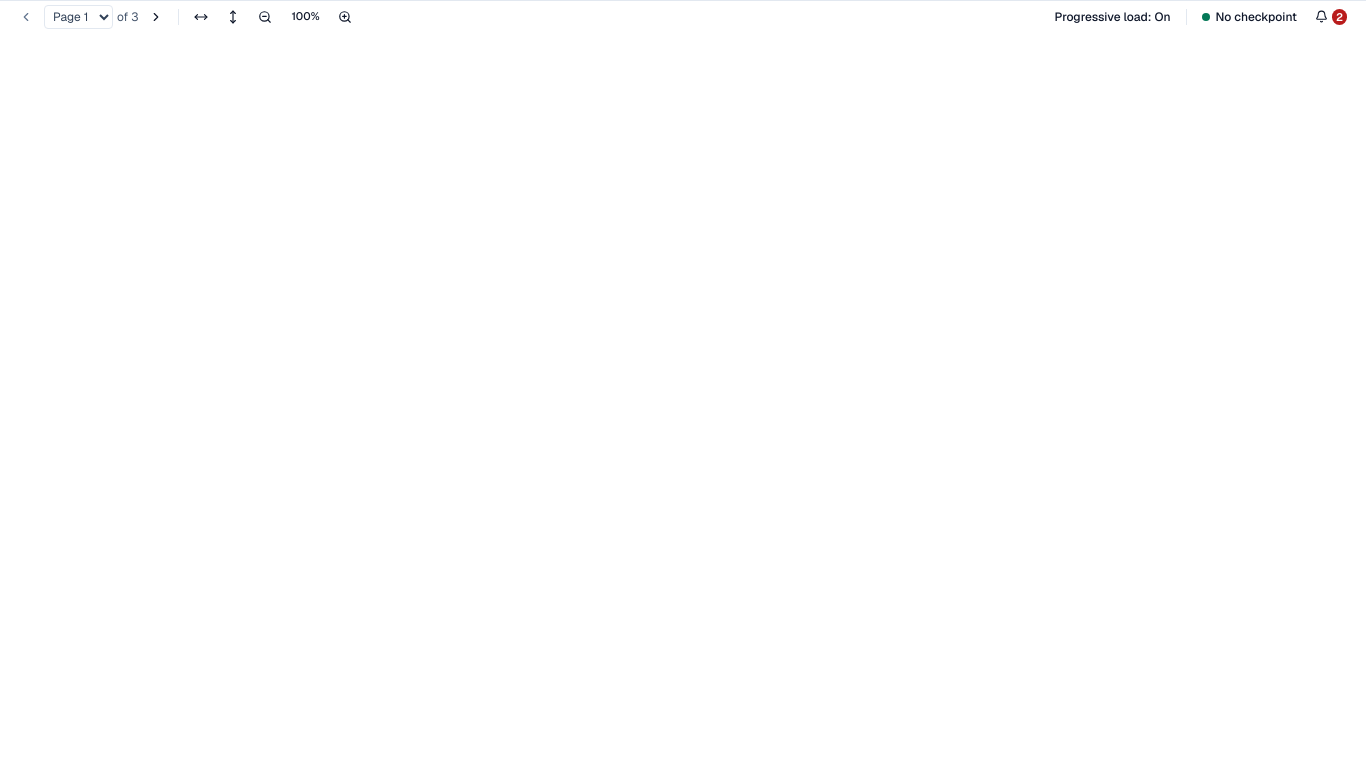
Test: StatusBar notices › counts unread notices, and clears the count when the list is opened
Check: the text with test id "status-notices-count" reads "2", box left=1336, top=10, right=1343, bottom=24
What coordinates should you click on to do the following:
click the button with test id "status-notices"
I would click on:
 (1331, 16)
Its box is left=1308, top=4, right=1354, bottom=28.
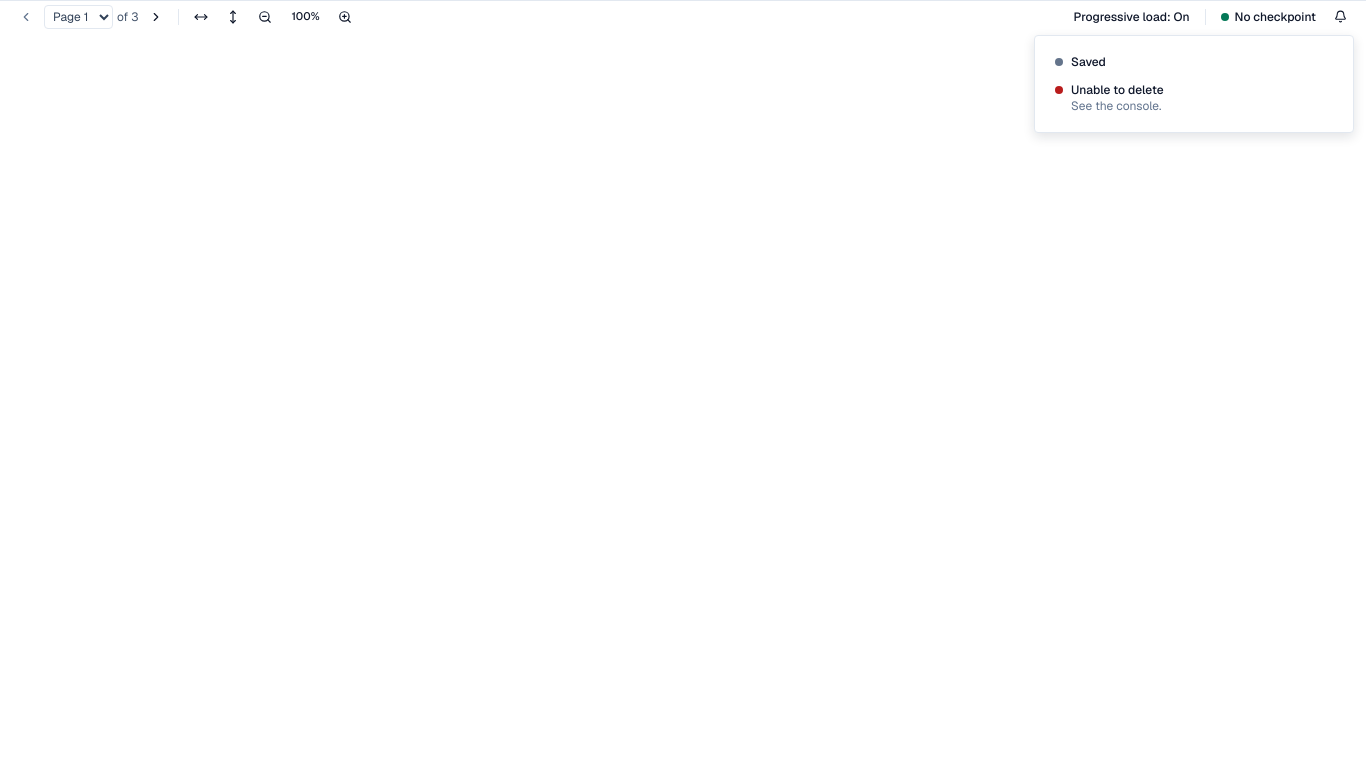
Check: the text "See the console." is shown, box left=1071, top=98, right=1164, bottom=114
Check: the text with test id "status-notices-count" is gone
